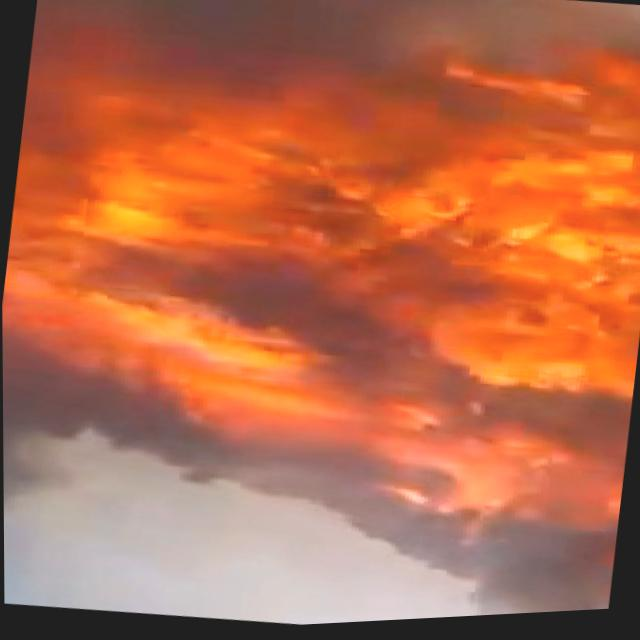fire: (0, 12, 640, 567)
smoke: (123, 521, 566, 635)
